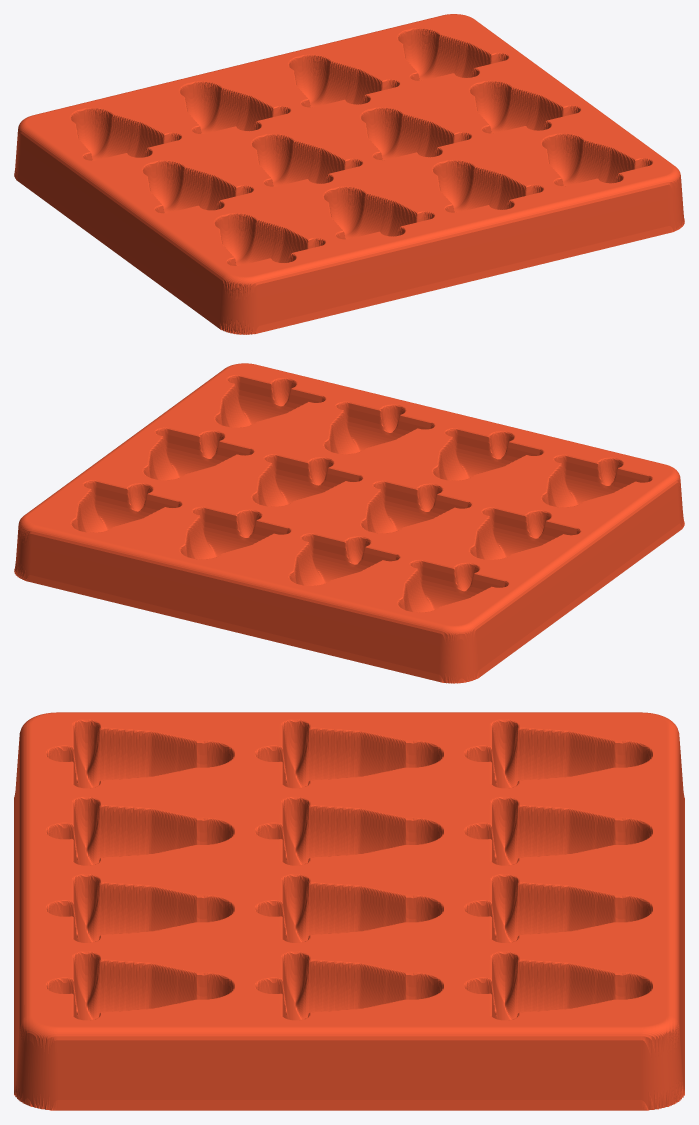
File: mold.glb
The picture shows the model from 3 angles, top to bottom: view 1: azimuth 30°, elevation 25°; view 2: azimuth 150°, elevation 25°; view 3: azimuth 270°, elevation 25°; orthographic projection. The views are drawn at different scales.
Parts seen in each view (by area): view 1: geometry_0; view 2: geometry_0; view 3: geometry_0.
Part boxes in pixels (x1=…): geometry_0: x1=14, y1=14, x2=684, y2=334; geometry_0: x1=14, y1=363, x2=684, y2=683; geometry_0: x1=14, y1=712, x2=684, y2=1110.
Size of the model in its own units: 0.1605 by 0.0175 by 0.1389.
